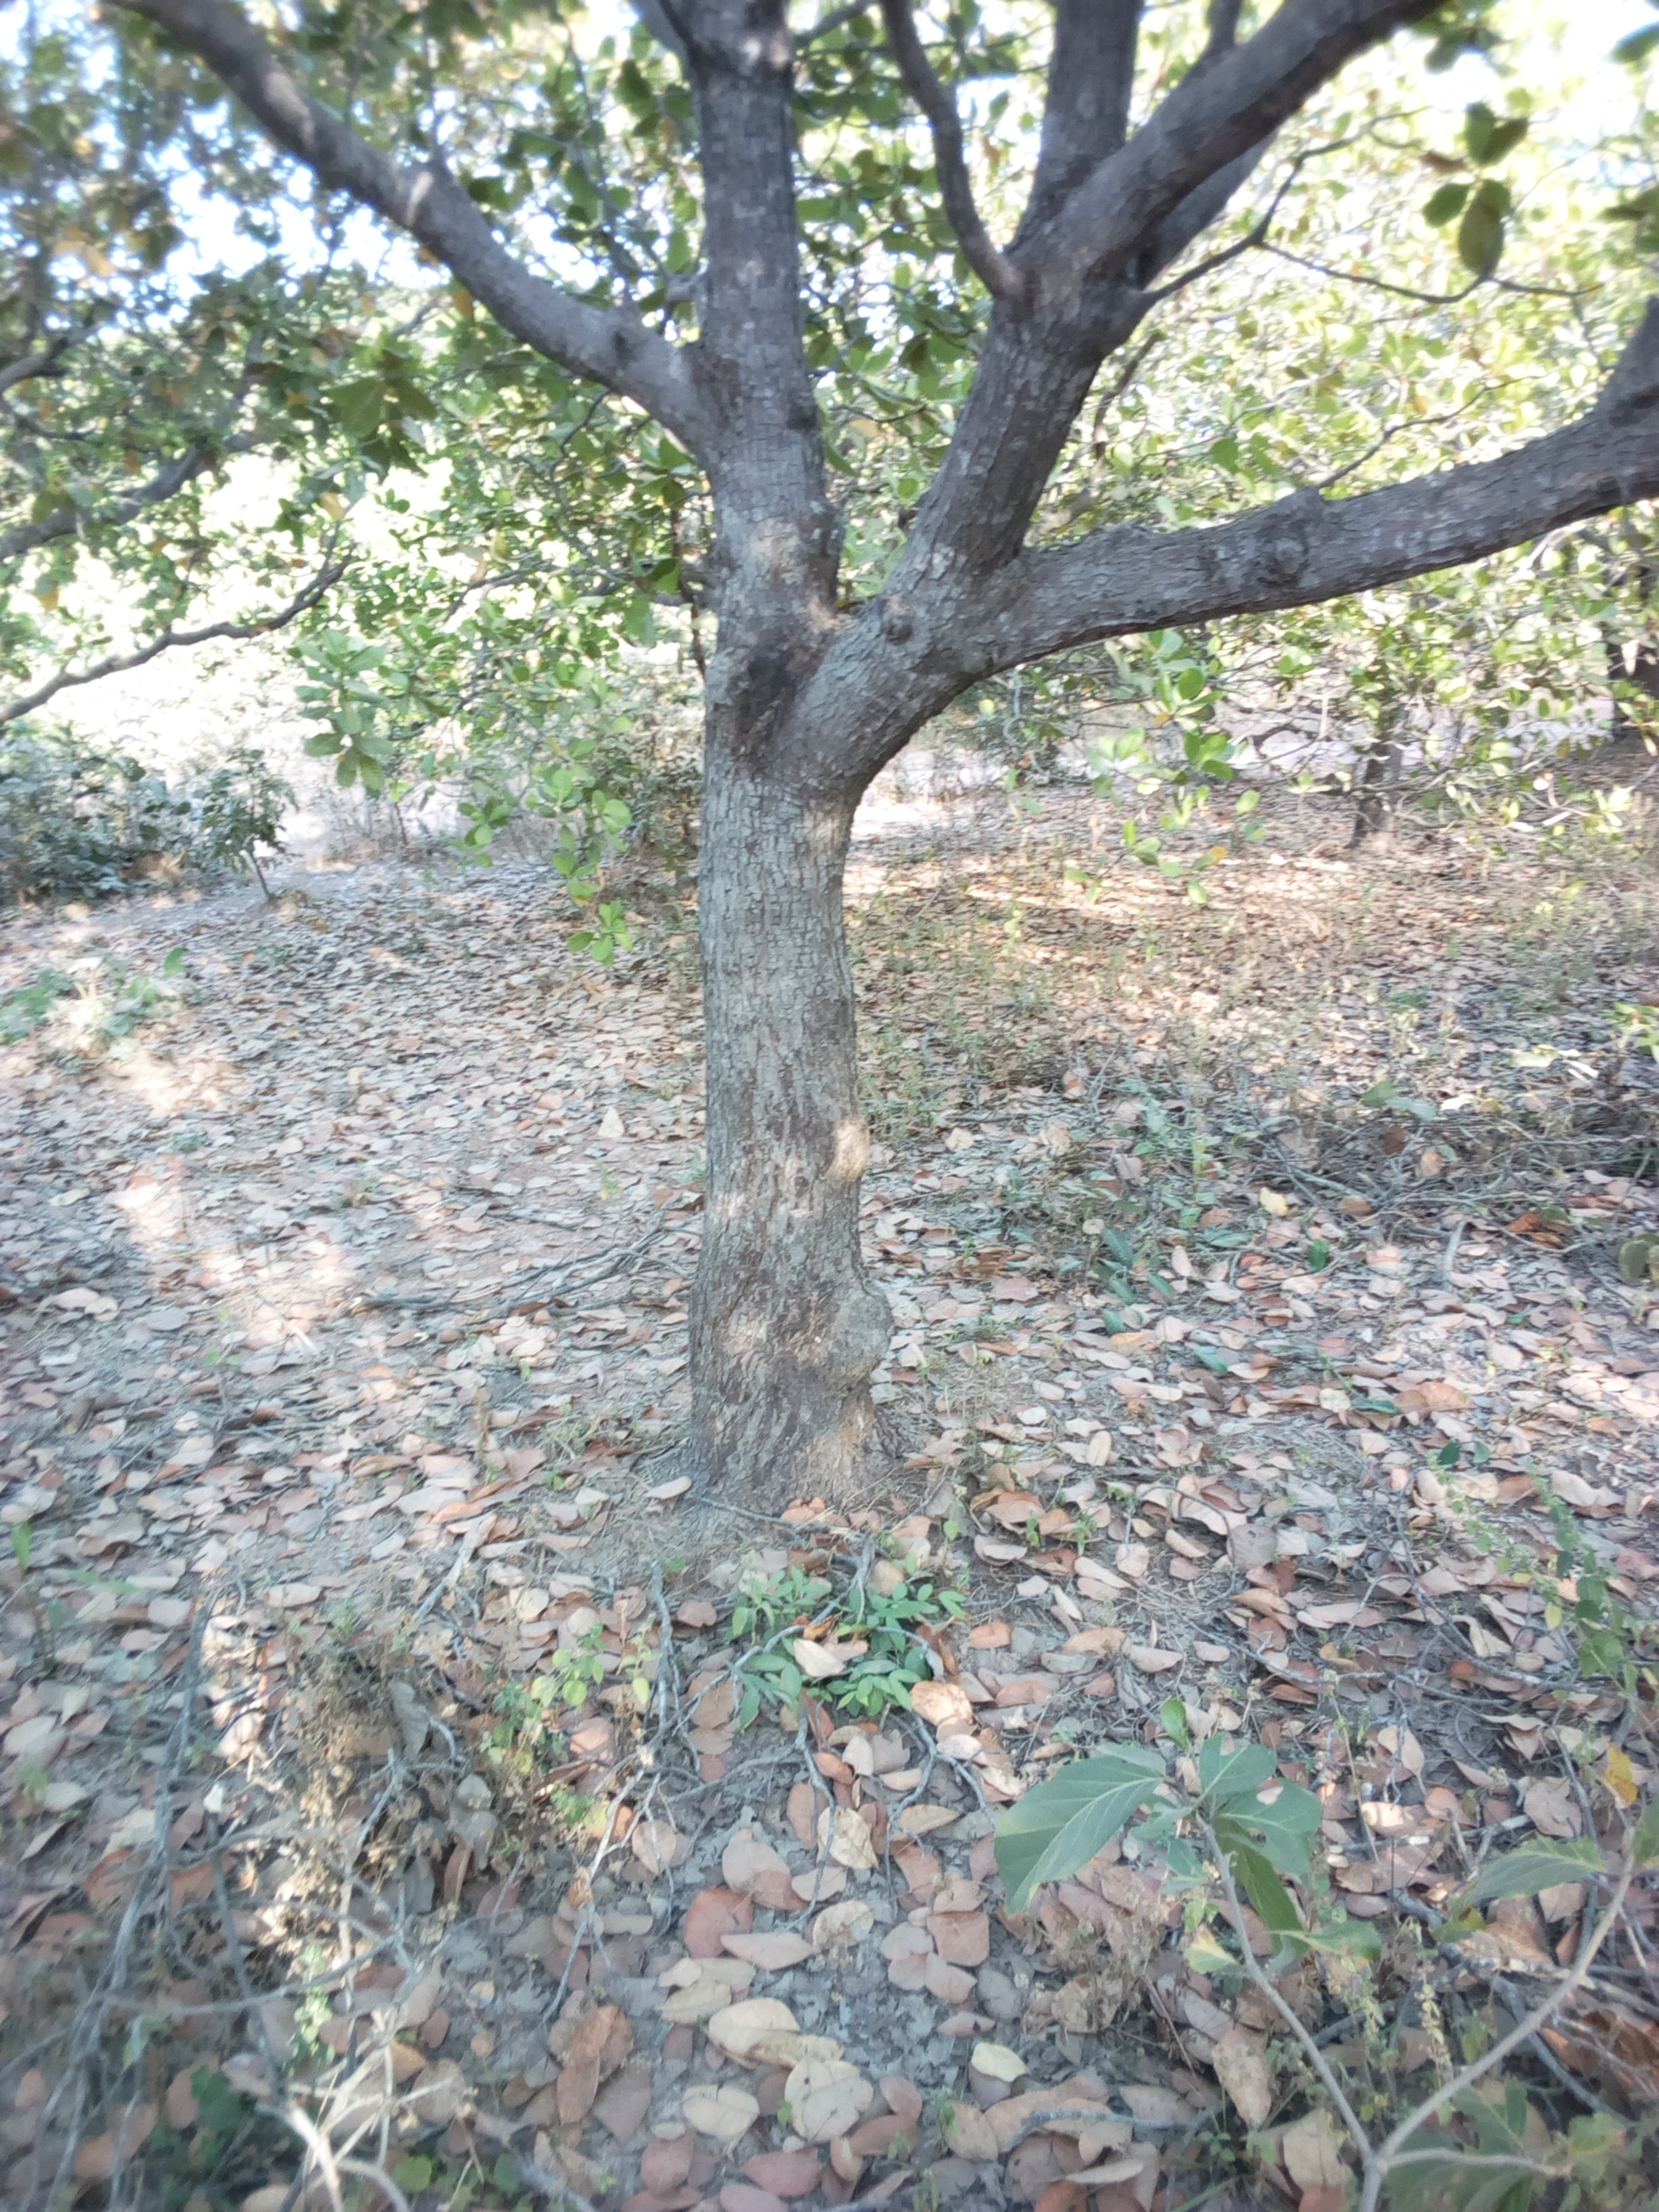Termites: (725, 615, 819, 794)
